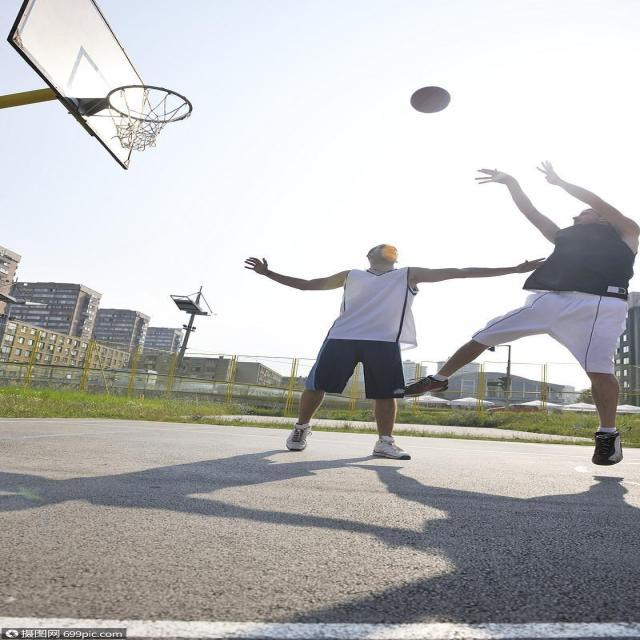rim: (410, 84, 454, 114)
